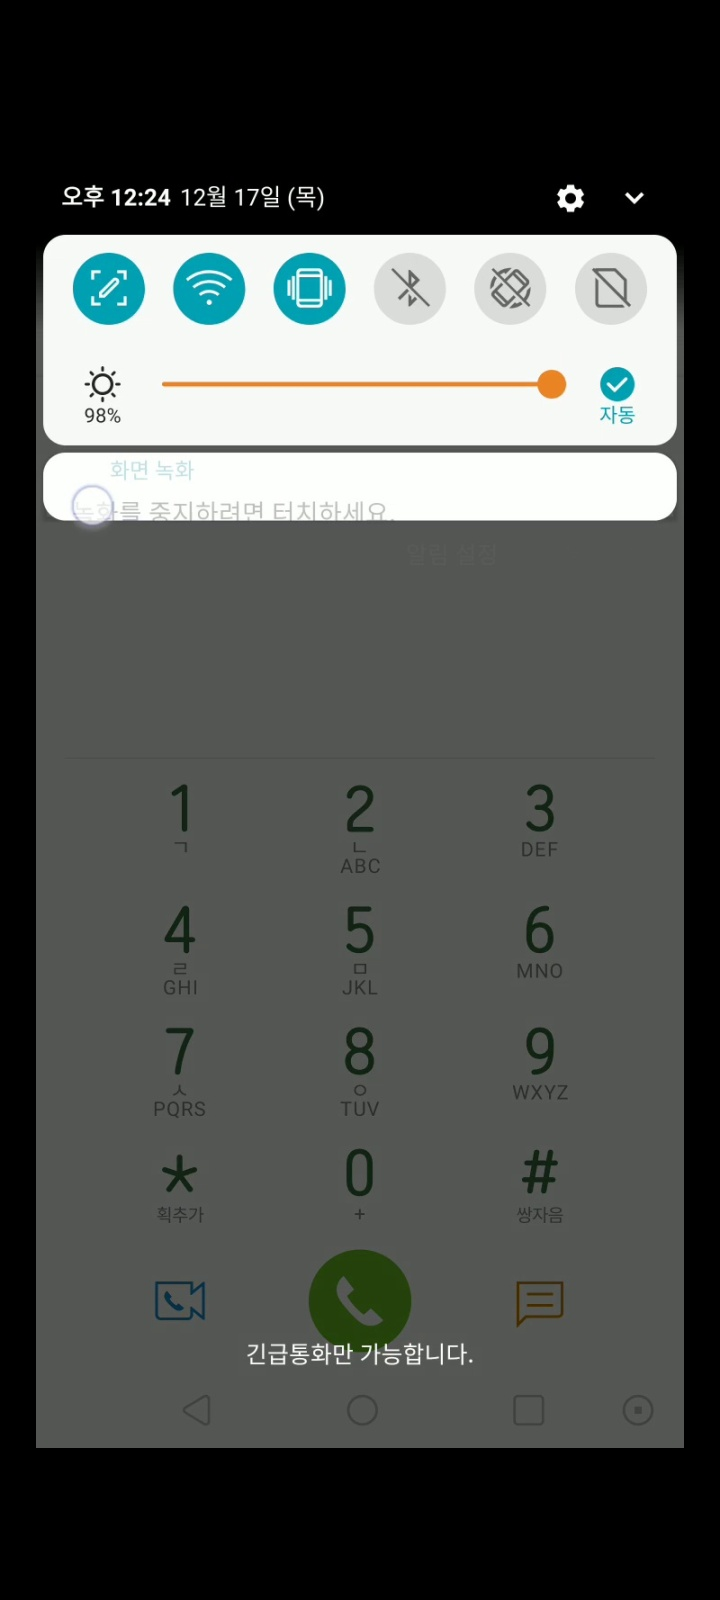Cursor: (70, 482, 115, 527)
